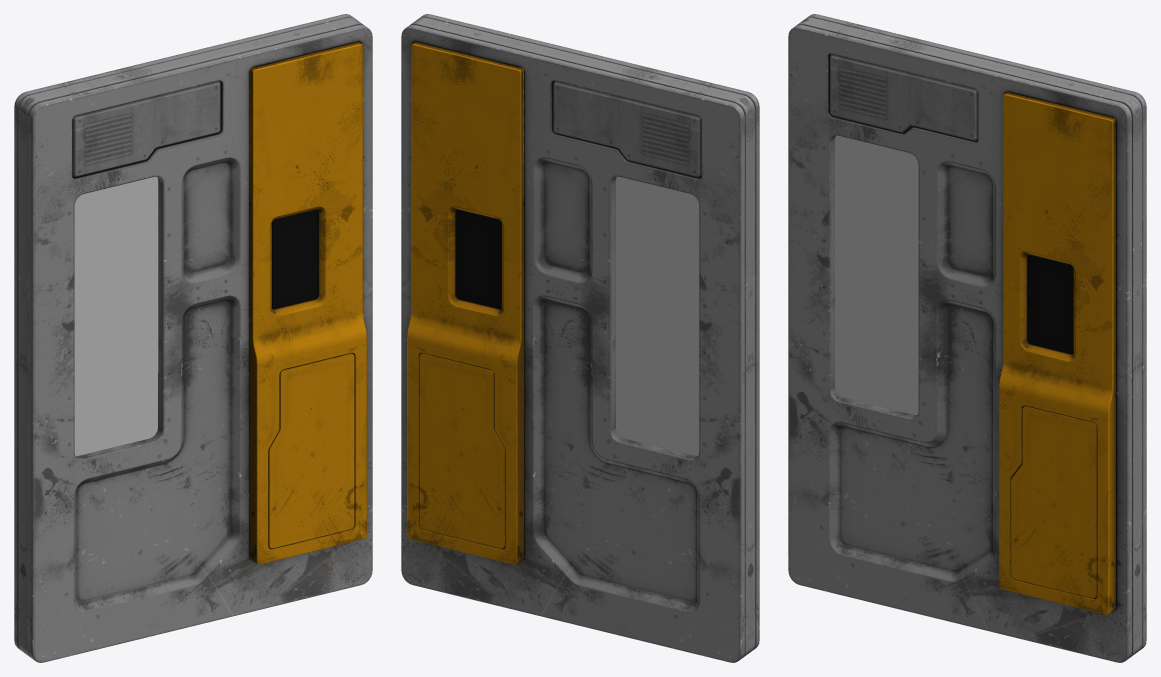
The model's file is SM_Door02.fbx.
3 renders of one model, left to right at view 1: azimuth 30°, elevation 25°; view 2: azimuth 150°, elevation 25°; view 3: azimuth 330°, elevation 25°, orthographic.
Parts seen in each view (by area): view 1: SM_Door02_LOD0; view 2: SM_Door02_LOD0; view 3: SM_Door02_LOD0.
Part boxes in pixels (box(x1,y1,x2,y2)): SM_Door02_LOD0: box(14, 14, 372, 662); SM_Door02_LOD0: box(401, 14, 759, 662); SM_Door02_LOD0: box(788, 14, 1146, 662).
Bounding box in the file's own units: 147 × 24.33 × 230.
Materials: 2 (1 with a texture image).
